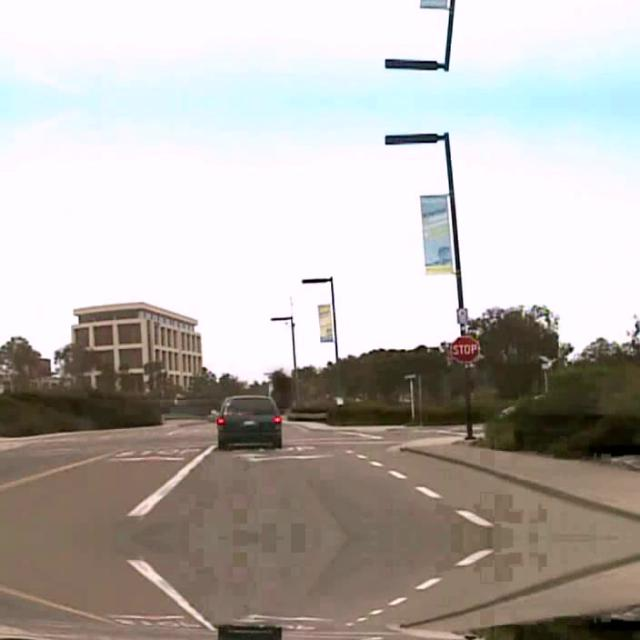stop: (451, 334, 479, 362)
